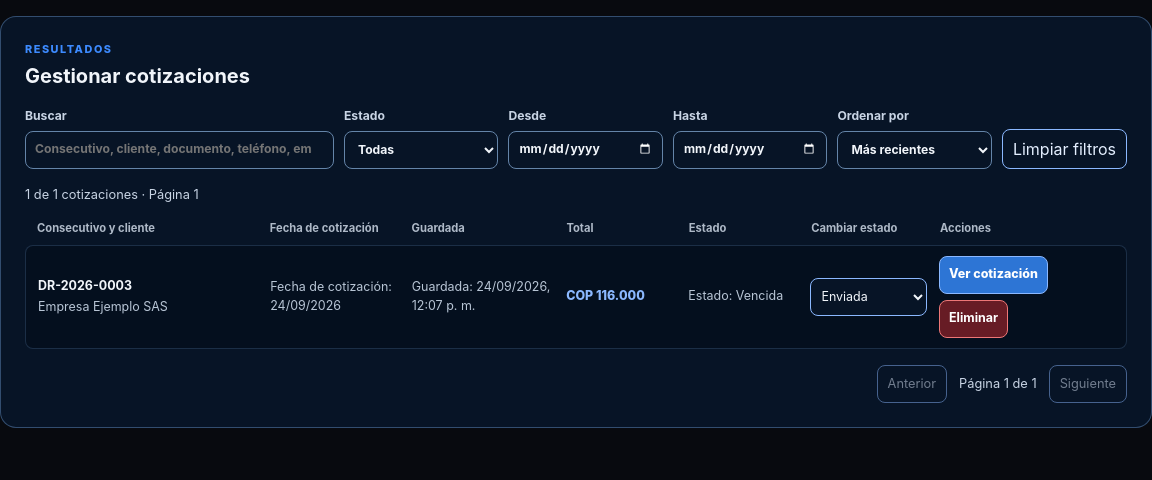
Scenario: QuotationHistory › shows the safe Spanish error when the historical load fails
Click the button "Ver cotización" at (993, 274), box [939,256,1048,294]
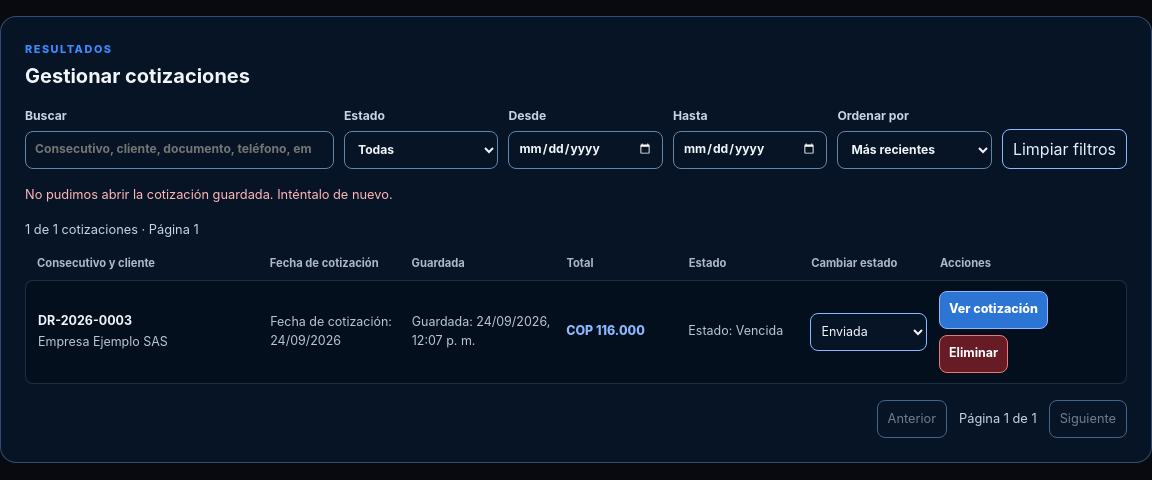
expect the message "No pudimos abrir la cotización guardada. Inténtalo de nuevo." is shown: met, box [25,186,393,202]
